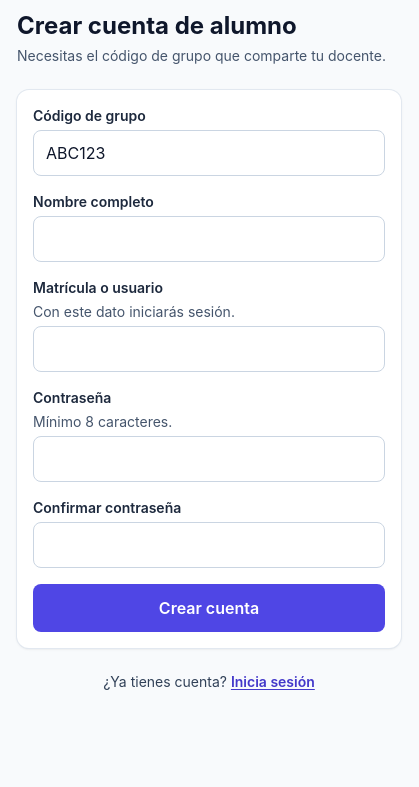
RegisterPage › shows a Spanish message when the username is taken
Type "Luis" into the field labelled "Nombre completo" at (209, 239), box [33,216,385,262]
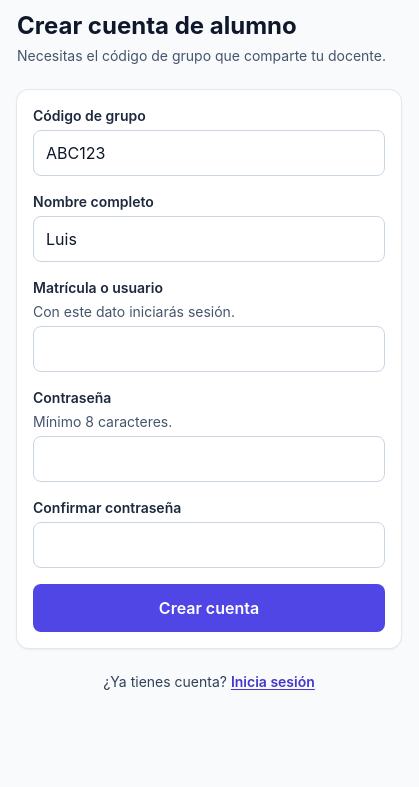
Type "a001" into the field labelled "Matrícula o usuario" at (209, 349), box [33,326,385,372]
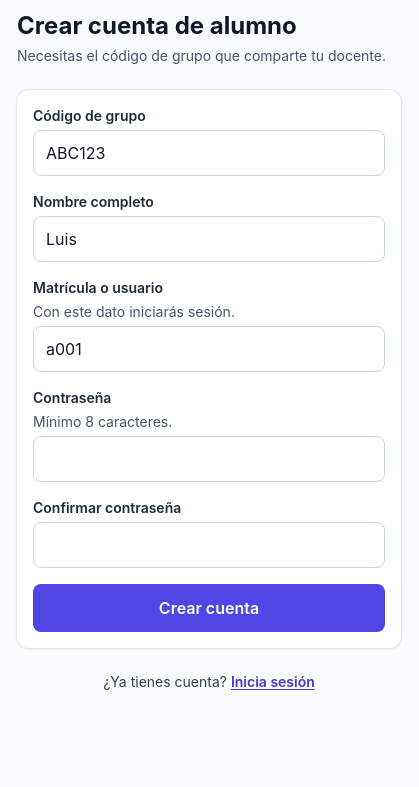
Type "secreto123" into the password field labelled "Contraseña" at (209, 459), box [33,436,385,482]
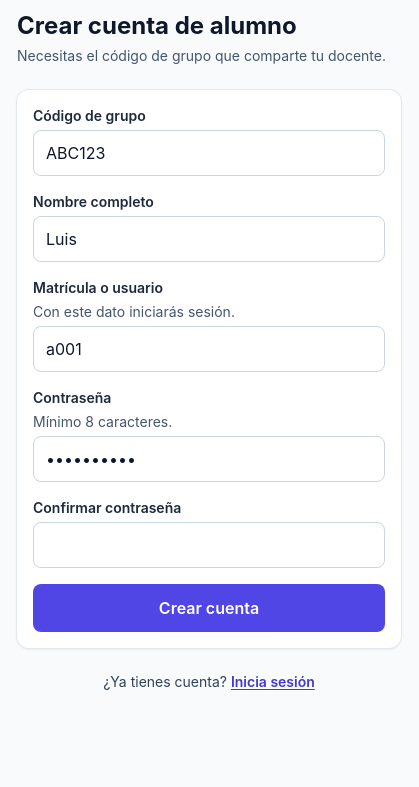
Type "secreto123" into the password field labelled "Confirmar contraseña" at (209, 545), box [33,522,385,568]
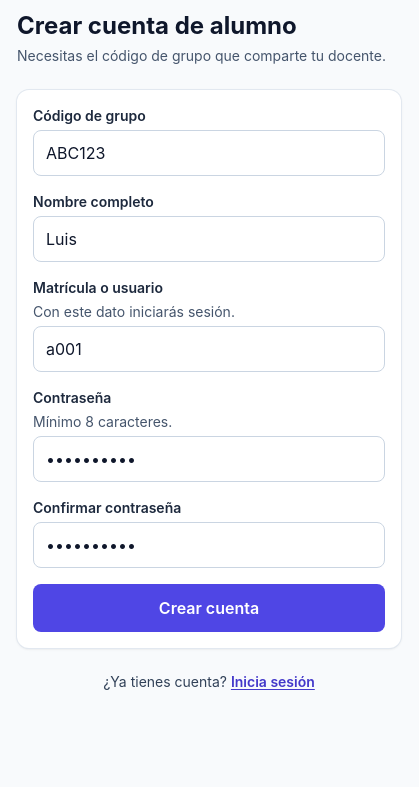
Click the button "Crear cuenta" at (209, 608), box [33,584,385,632]
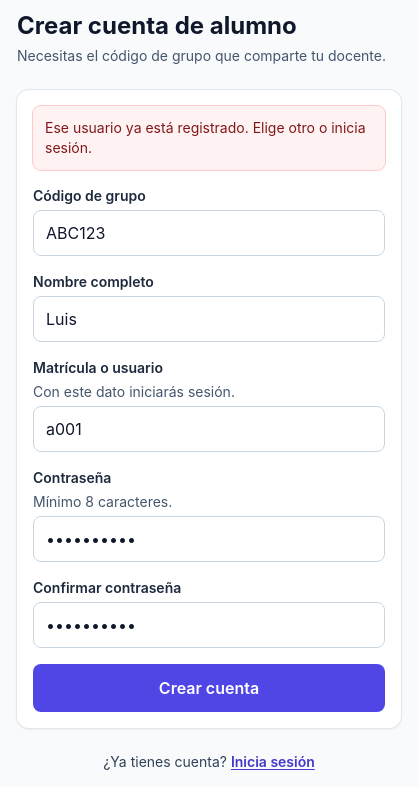
Check: the message shows "Ese usuario ya está registrado.", box [45,119,366,156]
